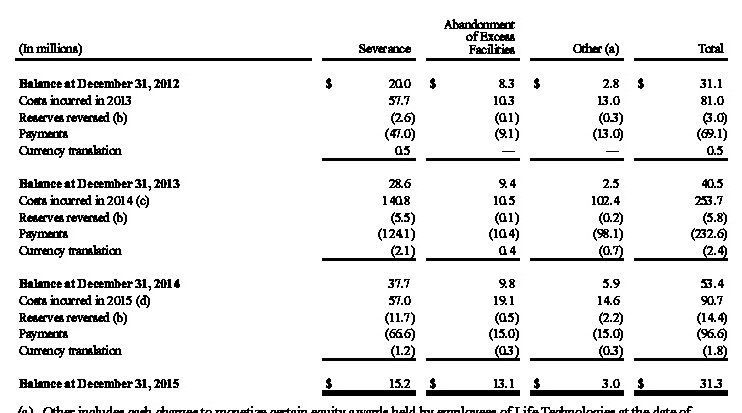table: (0, 0, 742, 413)
